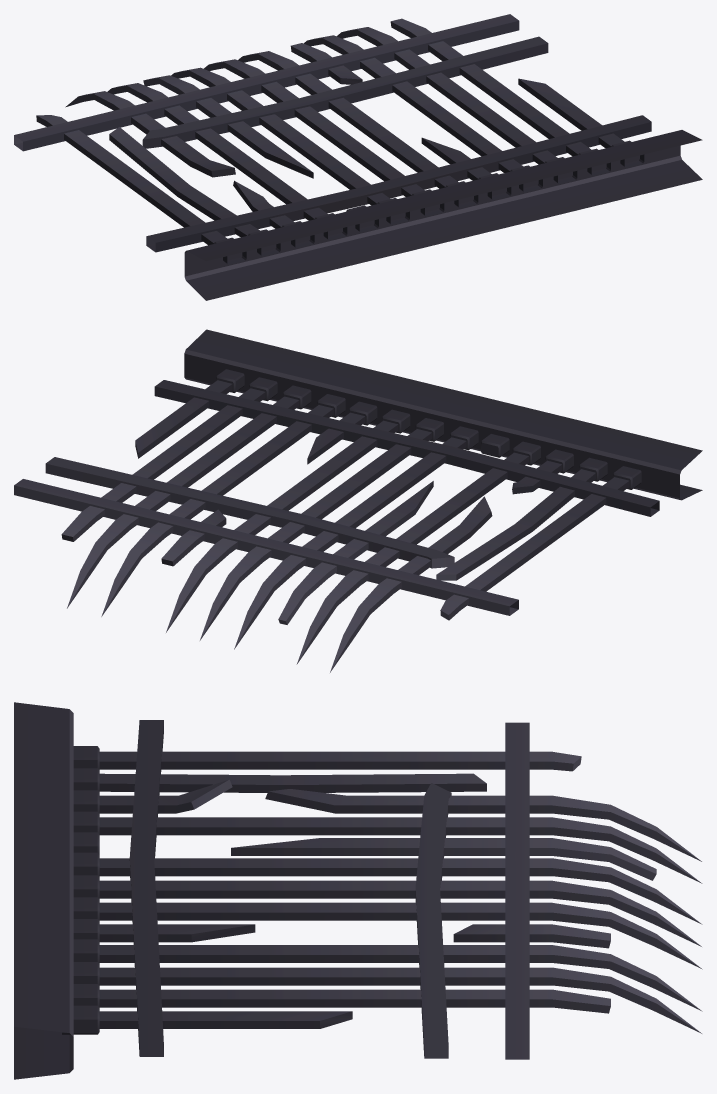
The model's file is Fence 01.FBX.
3 views of the same model, one above another, from view 1: azimuth 30°, elevation 25°; view 2: azimuth 150°, elevation 25°; view 3: azimuth 270°, elevation 25° (orthographic). The views are drawn at different scales.
Parts seen in each view (by area): view 1: Fence 01; view 2: Fence 01; view 3: Fence 01.
Part boxes in pixels (x1,y1,x2,y2): Fence 01: (14,14,702,300); Fence 01: (14,329,702,672); Fence 01: (14,702,702,1079).
Size of the model in its own units: 378 by 45.41 by 337.
